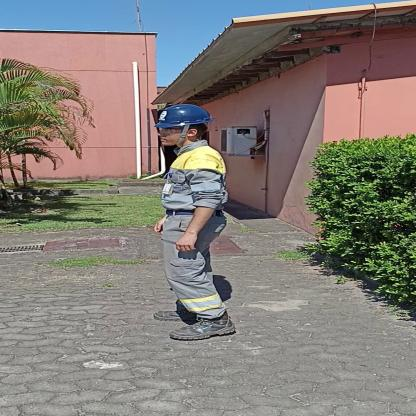Capacete: (154, 103, 211, 124)
